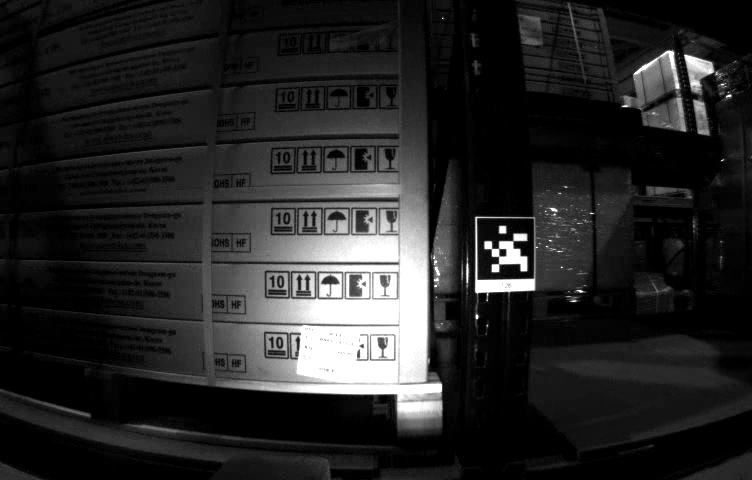True Barcode: (298, 321, 354, 382)
